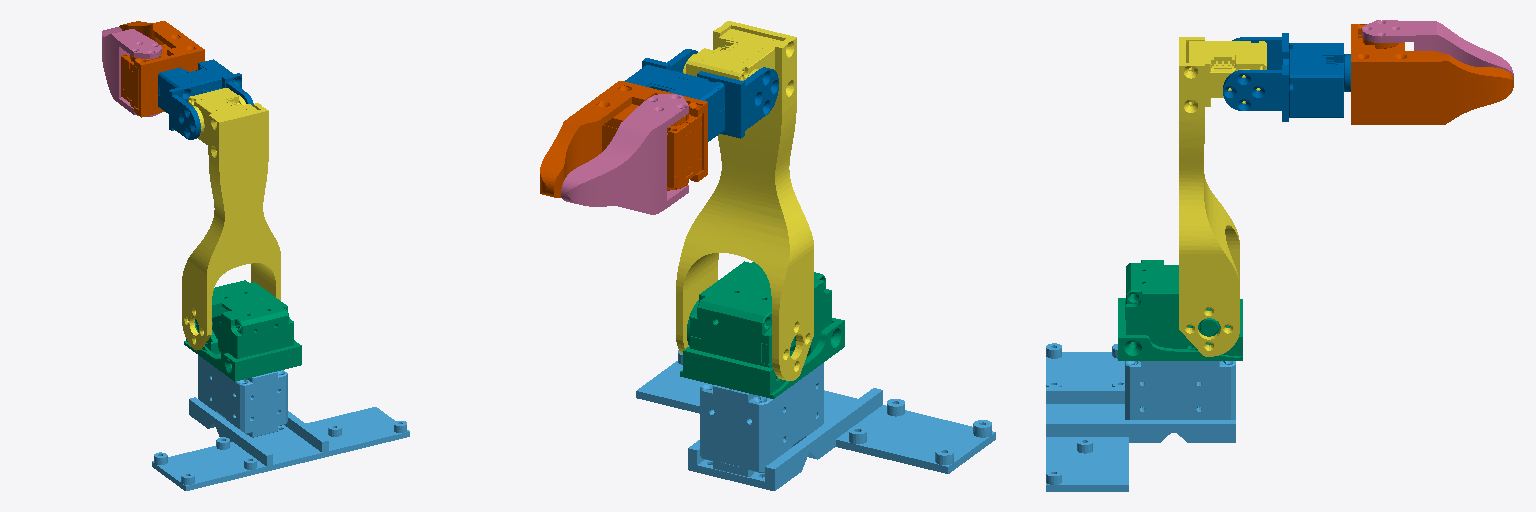
The robot description file, URDF, robot "low-cost-arm":
<?xml version="1.0" ?>
<robot name="low-cost-arm">
  <link name="base_link">
      <origin rpy="0 0 0" xyz="0 0 0"/>
  </link>
  <link name="robot_base">
    <inertial>
      <origin rpy="0 0 0" xyz="-1.6196165020213455e-05 0.04676572591178276 0.014449624355634582"/>
      <mass value="0.06752363433035656"/>
      <inertia ixx="4e-05" ixy="-0.0" ixz="-0.0" iyy="3.8e-05" iyz="-9e-06" izz="5.9e-05"/>
    </inertial>
    <visual>
      <origin rpy="1.5708 0 0" xyz="0 0 0"/>
      <geometry>
        <mesh filename="base_link_visible.obj" scale="0.001 0.001 0.001"/>
      </geometry>
      <color rgba="0.700 0.700 0.700 1.000"/>
    </visual>
 <!-- <collision>
      <origin rpy="0 0 0" xyz="0 0 0"/>
      <geometry>
        <mesh filename="base_link.obj" scale="0.001 0.001 0.001"/>
      </geometry>
    </collision> -->
  </link>
  <link name="shoulder">
    <inertial>
      <origin rpy="0 0 0" xyz="0.0011215335520915035 -0.011960095984038348 0.012424221873872536"/>
      <mass value="0.050669759178187244"/>
      <inertia ixx="1.4e-05" ixy="-0.0" ixz="-0.0" iyy="9e-06" iyz="-0.0" izz="1.5e-05"/>
    </inertial>
    <visual>
      <origin rpy="0 0 0" xyz="-0.00025 -0.06875 -0.0409"/>
      <geometry>
        <mesh filename="first-bracket-motor_1.obj" scale="0.001 0.001 0.001"/>
      </geometry>
      <color rgba="0.700 0.700 0.700 1.000"/>
    </visual>
 <!-- <collision>
      <origin rpy="0 0 0" xyz="-0.00025 -0.06875 -0.0409"/>
      <geometry>
        <mesh filename="first-bracket-motor_1.obj" scale="0.001 0.001 0.001"/>
      </geometry>
    </collision> -->
  </link>
  <link name="elbow">
    <inertial>
      <origin rpy="0 0 0" xyz="-0.0191542760740305 -0.0012683813577475112 0.07144141167892787"/>
      <mass value="0.05261369068977079"/>
      <inertia ixx="7e-05" ixy="0.0" ixz="0.0" iyy="7.2e-05" iyz="-5e-06" izz="1.1e-05"/>
    </inertial>
    <visual>
      <origin rpy="0 0 0" xyz="-0.01945 -0.06895 -0.05515"/>
      <geometry>
        <mesh filename="shoulder-to-elbow-motor_v1_1.obj" scale="0.001 0.001 0.001"/>
      </geometry>
      <color rgba="0.700 0.700 0.700 1.000"/>
    </visual>
 <!-- <collision>
      <origin rpy="0 0 0" xyz="-0.01945 -0.06895 -0.05515"/>
      <geometry>
        <mesh filename="shoulder-to-elbow-motor_v1_1.obj" scale="0.001 0.001 0.001"/>
      </geometry>
    </collision> -->
  </link>
  <link name="wrist">
    <inertial>
      <origin rpy="0 0 0" xyz="0.01951468809363352 0.026076660011439212 2.3261768583027198e-05"/>
      <mass value="0.02059907441055582"/>
      <inertia ixx="3e-06" ixy="-0.0" ixz="0.0" iyy="3e-06" iyz="-0.0" izz="5e-06"/>
    </inertial>
    <visual>
      <origin rpy="0 0 0" xyz="0.0143 -0.08375 -0.16345"/>
      <geometry>
        <mesh filename="elbow-to-wrist-motor-reference_v1_1.obj" scale="0.001 0.001 0.001"/>
      </geometry>
      <color rgba="0.700 0.700 0.700 1.000"/>
    </visual>
 <!-- <collision>
      <origin rpy="0 0 0" xyz="0.0143 -0.08375 -0.16345"/>
      <geometry>
        <mesh filename="elbow-to-wrist-motor-reference_v1_1.obj" scale="0.001 0.001 0.001"/>
      </geometry>
    </collision> -->
  </link>
  <link name="gripper_static_part">
    <inertial>
      <origin rpy="0 0 0" xyz="0.005421565533833407 0.019034667992307075 0.00011281388318701291"/>
      <mass value="0.030801959916802346"/>
      <inertia ixx="9e-06" ixy="-2e-06" ixz="-0.0" iyy="6e-06" iyz="-0.0" izz="1.1e-05"/>
    </inertial>
    <visual>
      <origin rpy="0 0 0" xyz="0.000893 -0.128688 -0.163437"/>
      <geometry>
        <mesh filename="gripper-static-motor_v2_1.obj" scale="0.001 0.001 0.001"/>
      </geometry>
      <color rgba="0.700 0.700 0.700 1.000"/>
    </visual>
 <!-- <collision>
      <origin rpy="0 0 0" xyz="0.000893 -0.128688 -0.163437"/>
      <geometry>
        <mesh filename="gripper-static-motor_v2_1.obj" scale="0.001 0.001 0.001"/>
      </geometry>
      <drake:proximity_properties>
        <drake:rigid_hydroelastic/>
      </drake:proximity_properties>
    </collision> -->
  </link>
  <link name="gripper_moving_part">
    <inertial>
      <origin rpy="0 0 0" xyz="0.001094897934895013 0.025115003984107043 -0.01445125352746443"/>
      <mass value="0.013583445641331692"/>
      <inertia ixx="4e-06" ixy="-0.0" ixz="-0.0" iyy="2e-06" iyz="-0.0" izz="3e-06"/>
    </inertial>
    <visual>
      <origin rpy="0 0 0" xyz="0.008443 -0.141678 -0.177687"/>
      <geometry>
        <mesh filename="gripper-moving-part-dumb_v2_1.obj" scale="0.001 0.001 0.001"/>
      </geometry>
      <color rgba="0.700 0.700 0.700 1.000"/>
    </visual>
 <!-- <collision>
      <origin rpy="0 0 0" xyz="0.008443 -0.141678 -0.177687"/>
      <geometry>
        <mesh filename="gripper-moving-part-dumb_v2_1.obj" scale="0.001 0.001 0.001"/>
      </geometry>
      <drake:proximity_properties>
        <drake:rigid_hydroelastic/>
      </drake:proximity_properties>
    </collision> -->
  </link>
  <joint name="base_weld" type="fixed">
    <origin rpy="0 0 0" xyz="0 0 0"/>
    <parent link="base_link"/>
    <child link="robot_base"/>
  </joint>
  <joint name="joint_2" type="continuous">
    <origin rpy="0 0 0" xyz="0.00025 0.06875 0.0409"/>
    <parent link="robot_base"/>
    <child link="shoulder"/>
    <axis xyz="0.0 0.0 1.0"/>
  </joint>
  <joint name="joint_3" type="continuous">
    <origin rpy="0 0 0" xyz="0.0192 0.0002 0.01425"/>
    <parent link="shoulder"/>
    <child link="elbow"/>
    <axis xyz="1.0 0.0 0.0"/>
  </joint>
  <joint name="joint_5" type="continuous">
    <origin rpy="0 0 0" xyz="-0.03375 0.0148 0.1083"/>
    <parent link="elbow"/>
    <child link="wrist"/>
    <axis xyz="1.0 -0.0 0.0"/>
  </joint>
  <joint name="joint_6" type="continuous">
    <origin rpy="0 0 0" xyz="0.013407 0.044938 -1.3e-05"/>
    <parent link="wrist"/>
    <child link="gripper_static_part"/>
    <axis xyz="-0.0 -1.0 0.0"/>
  </joint>
  <joint name="joint_7" type="continuous">
    <origin rpy="0 0 0" xyz="-0.00755 0.01299 0.01425"/>
    <parent link="gripper_static_part"/>
    <child link="gripper_moving_part"/>
    <axis xyz="-0.0 -0.0 -1.0"/>
  </joint>
  <transmission type="SimpleTransmission" name="joint_2_transmission">
    <actuator name="joint_2_actuator"/>
    <joint name="joint_2"/>
    <mechanicalReduction>1</mechanicalReduction>
  </transmission>
  <transmission type="SimpleTransmission" name="joint_3_transmission">
    <actuator name="joint_3_actuator"/>
    <joint name="joint_3"/>
    <mechanicalReduction>1</mechanicalReduction>
  </transmission>
  <transmission type="SimpleTransmission" name="joint_5_transmission">
    <actuator name="joint_5_actuator"/>
    <joint name="joint_5"/>
    <mechanicalReduction>1</mechanicalReduction>
  </transmission>
  <transmission type="SimpleTransmission" name="joint_6_transmission">
    <actuator name="joint_6_actuator"/>
    <joint name="joint_6"/>
    <mechanicalReduction>1</mechanicalReduction>
  </transmission>
  <transmission type="SimpleTransmission" name="joint_7_transmission">
    <actuator name="joint_7_actuator"/>
    <joint name="joint_7"/>
    <mechanicalReduction>1</mechanicalReduction>
  </transmission>
</robot>

--- Render facts (derived) ---
3 views of the same robot in one strip: view 1: azimuth 30°, elevation 25°; view 2: azimuth 150°, elevation 25°; view 3: azimuth 270°, elevation 25° (orthographic).
Robot: low-cost-arm — 7 links, 6 joints (5 continuous, 1 fixed); root link base_link; default pose: all joints at 0.
Links seen in each view (by area): view 1: robot_base, elbow, shoulder, gripper_static_part, wrist, gripper_moving_part; view 2: elbow, robot_base, shoulder, gripper_moving_part, gripper_static_part, wrist; view 3: robot_base, elbow, gripper_static_part, wrist, shoulder, gripper_moving_part.
Boxes of the visible links, x1,y1,x2,y2 form: robot_base: [152, 355, 409, 490]; elbow: [182, 88, 280, 350]; shoulder: [184, 280, 301, 381]; gripper_static_part: [119, 21, 204, 117]; wrist: [158, 59, 253, 139]; gripper_moving_part: [102, 27, 161, 116]; elbow: [676, 21, 813, 380]; robot_base: [636, 350, 995, 490]; shoulder: [680, 261, 844, 398]; gripper_moving_part: [561, 94, 688, 214]; gripper_static_part: [540, 81, 707, 197]; wrist: [625, 49, 778, 141]; robot_base: [1046, 343, 1235, 491]; elbow: [1179, 37, 1266, 356]; gripper_static_part: [1351, 24, 1513, 124]; wrist: [1223, 33, 1350, 121]; shoulder: [1118, 260, 1242, 360]; gripper_moving_part: [1362, 20, 1513, 76].
Size in the robot's own frame: 0.133 by 0.1975 by 0.1807 metres.
Meshes: 6 distinct files referenced, 6 mesh visuals loaded (6 OBJ).